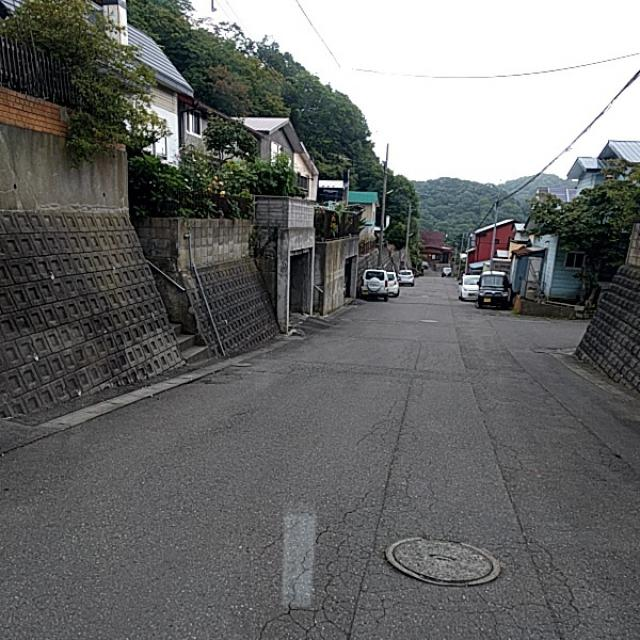pothole: (384, 362, 629, 632), (276, 556, 363, 636)
